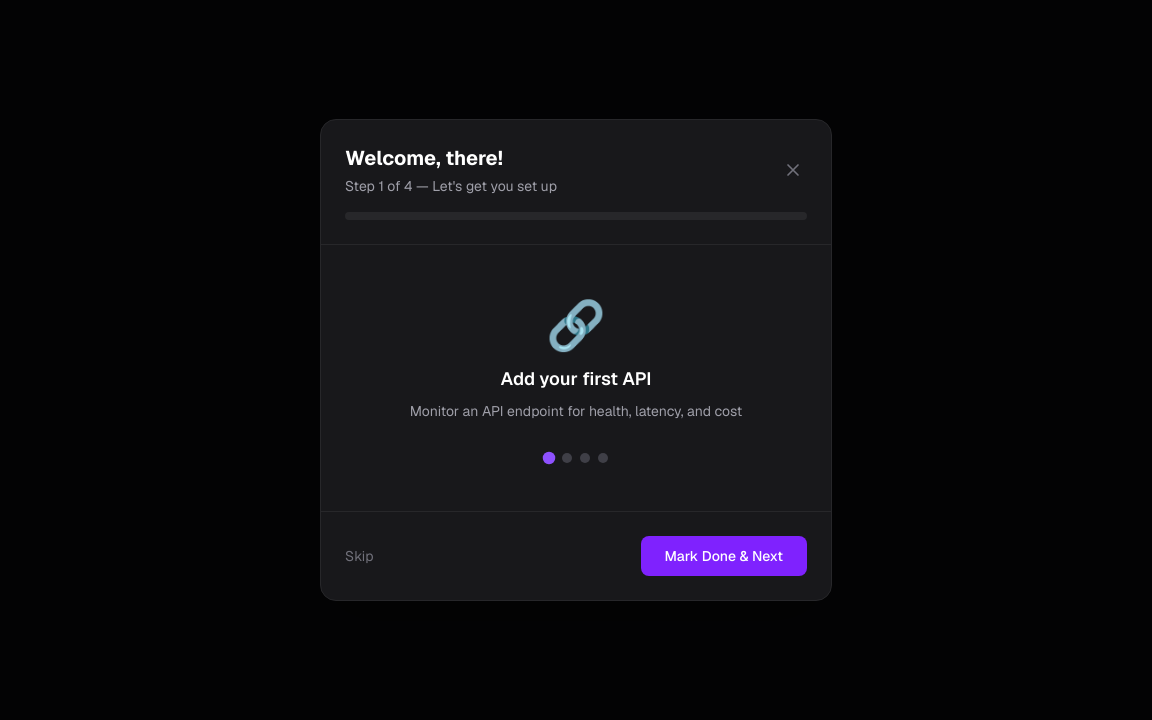
Test: OnboardingModal › advances on Mark Done & Next
Click the button "Mark Done & Next".
click(724, 556)  # box [640,536,807,576]
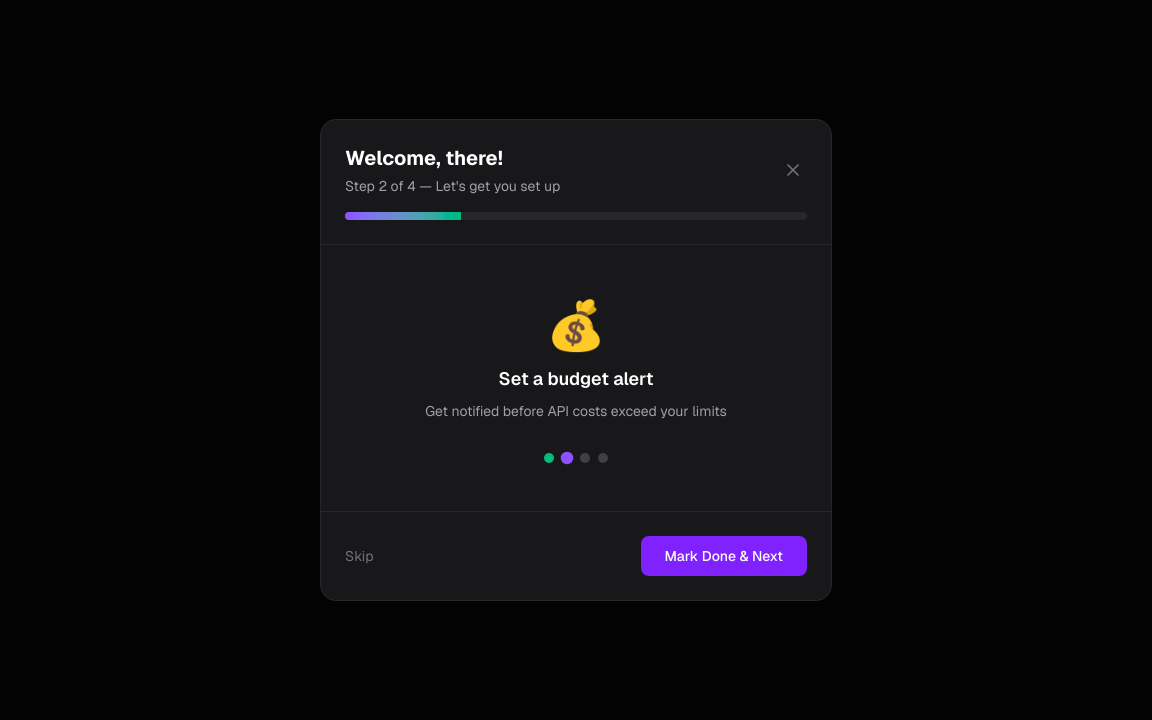
Expected: the heading "Set a budget alert" is shown, [499,367,654,390]
